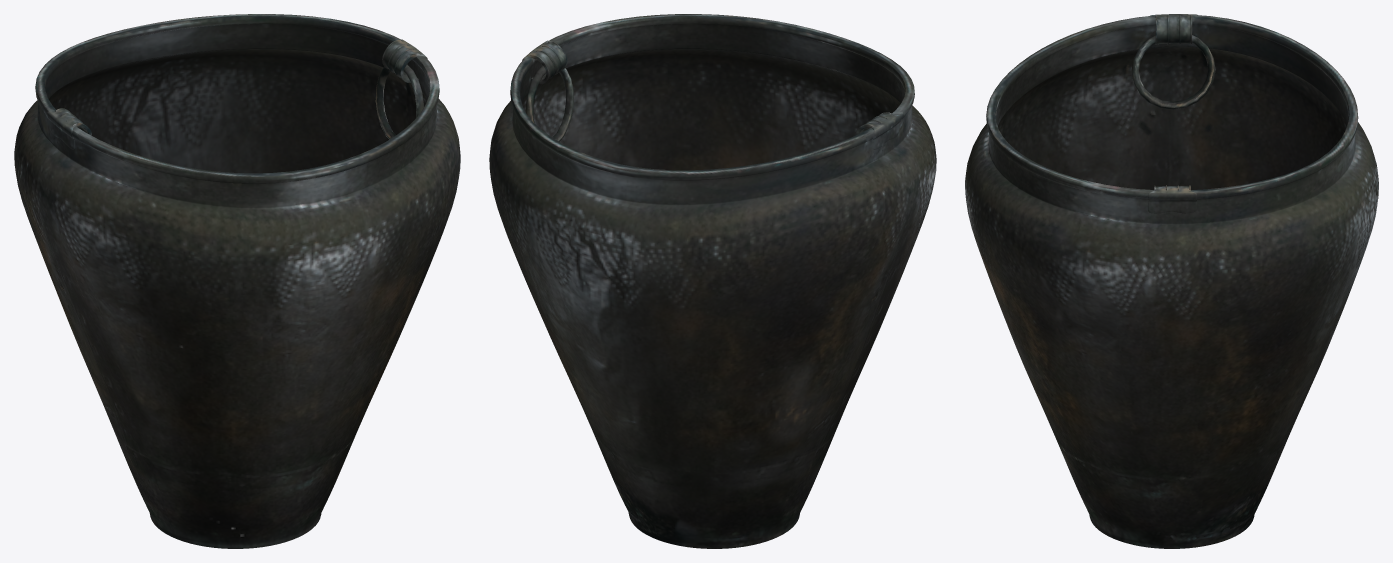
Rendered from obj_bronze_age_riveted_sheet_bro_e48809.glb.
The picture shows the model from 3 angles, left to right: view 1: azimuth 30°, elevation 25°; view 2: azimuth 150°, elevation 25°; view 3: azimuth 270°, elevation 25°; orthographic projection. The views are drawn at different scales.
Parts seen in each view (by area): view 1: obj_bronze_age_riveted_sheet_bro_e48809; view 2: obj_bronze_age_riveted_sheet_bro_e48809; view 3: obj_bronze_age_riveted_sheet_bro_e48809.
Part boxes in pixels (bbox=[...]): obj_bronze_age_riveted_sheet_bro_e48809: bbox=[14, 14, 460, 548]; obj_bronze_age_riveted_sheet_bro_e48809: bbox=[489, 14, 936, 548]; obj_bronze_age_riveted_sheet_bro_e48809: bbox=[965, 14, 1378, 548].
Size of the model in its own units: 0.4706 by 0.5 by 0.4451.
1 material, 1 textured.
